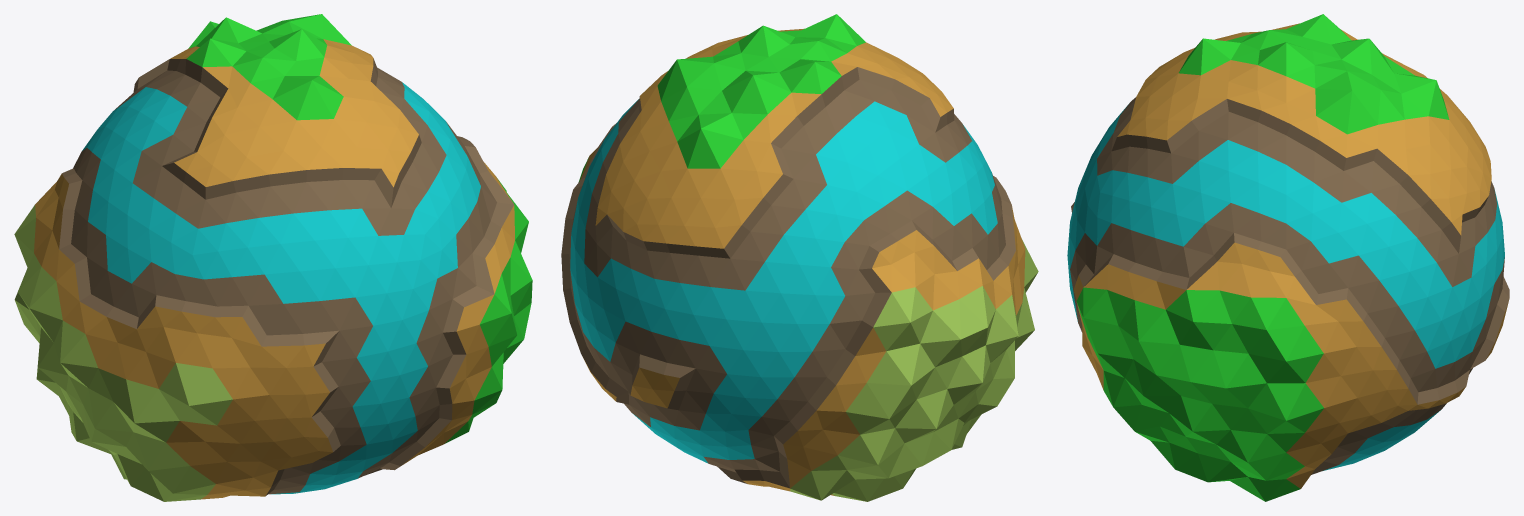
Rendered from Planet1.fbx.
The picture shows the model from 3 angles, left to right: view 1: azimuth 30°, elevation 25°; view 2: azimuth 150°, elevation 25°; view 3: azimuth 270°, elevation 25°; orthographic projection. The views are drawn at different scales.
Visible parts, largest first — view 1: Icosphere; view 2: Icosphere; view 3: Icosphere.
Boxes of the visible parts, x1,y1,x2,y2 form: Icosphere: (14, 14, 532, 501); Icosphere: (561, 14, 1038, 501); Icosphere: (1067, 14, 1509, 501).
Size of the model in its own units: 1148 by 1069 by 1010.
